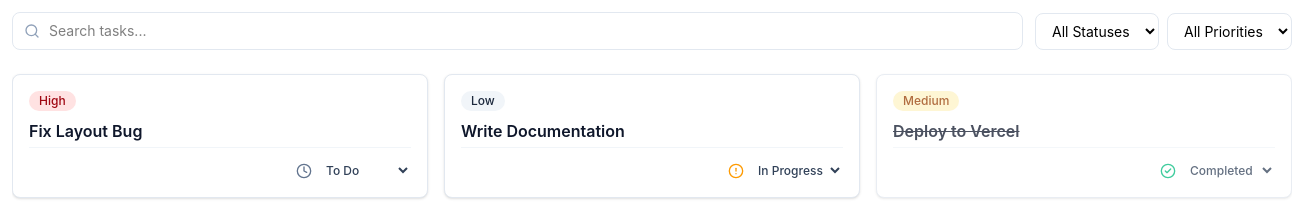
Test case: <TaskList /> › filters tasks based on selected status option
Select "Completed" in the dropdown named "Filter by Status". click: (1097, 31)
box: [1035,12,1159,50]
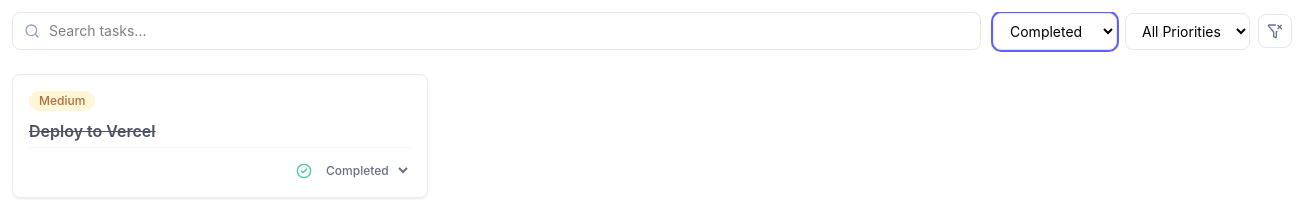
Expected: the heading "Deploy to Vercel" is shown, [29,121,156,141]
Expected: the heading "Fix Layout Bug" is gone
